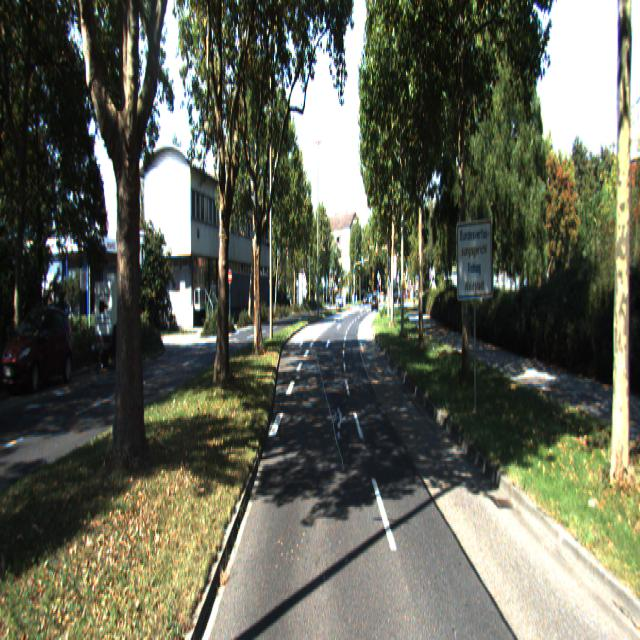Car: (4, 309, 76, 401), (95, 282, 137, 376)
